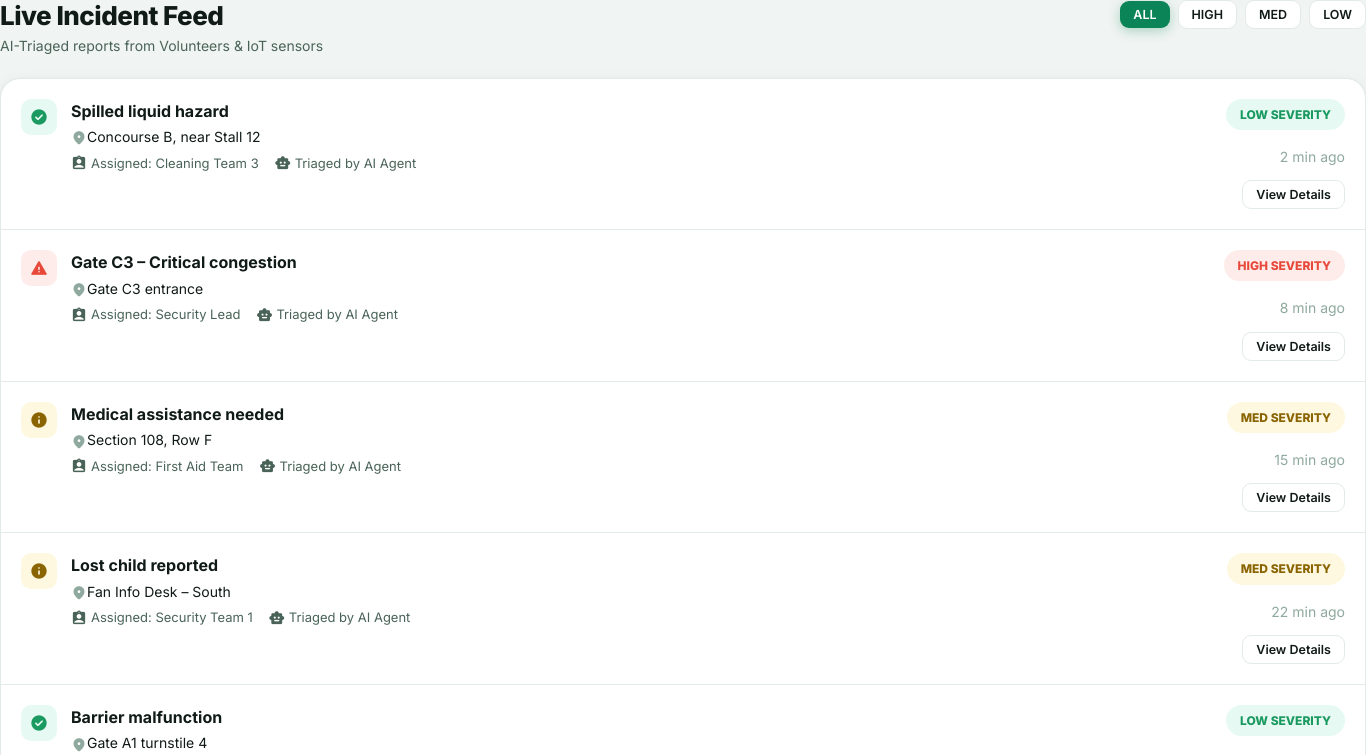
Scenario: IncidentFeed Component › filters to LOW severity incidents only
Click the button "LOW": (1338,14) [1309,0,1365,29]
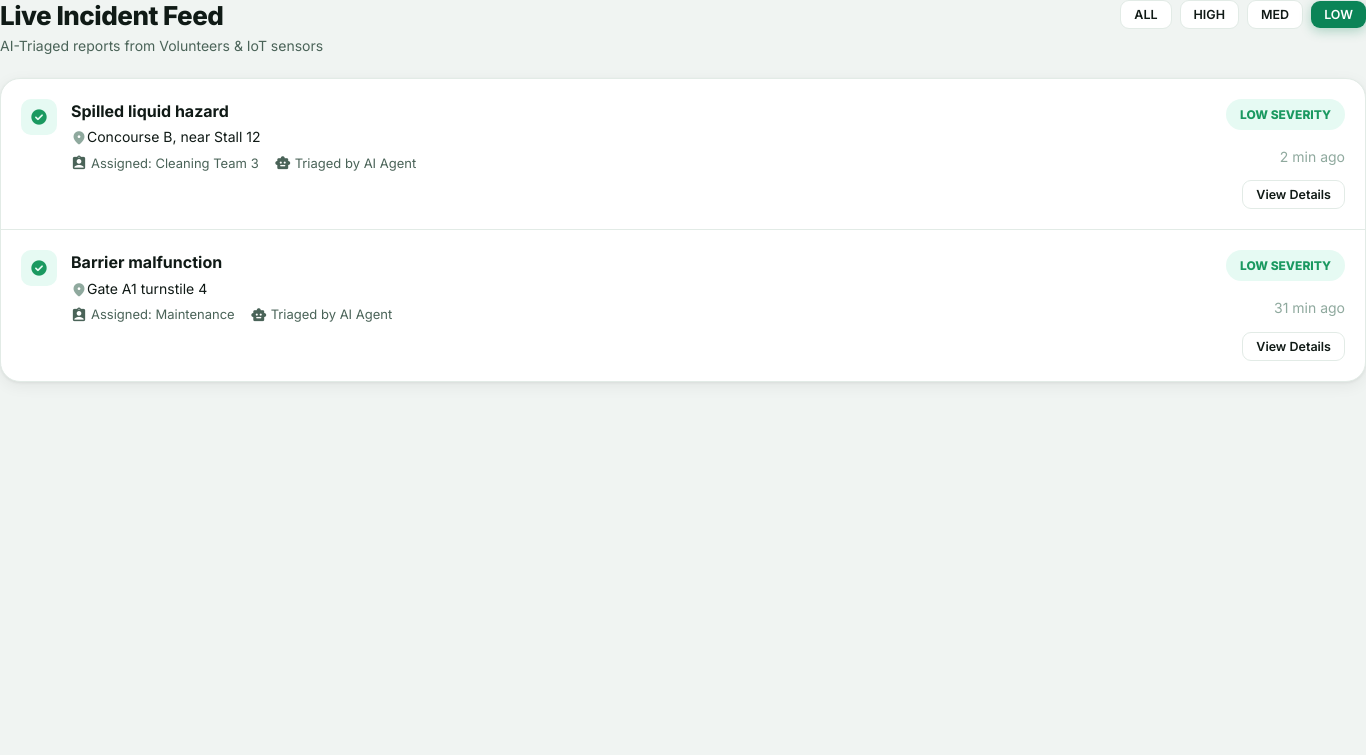
Expected: the heading "Spilled liquid hazard" is shown, [71,101,229,121]
Expected: the heading "Gate C3 – Critical congestion" is gone
Expected: the heading "Medical assistance needed" is gone
